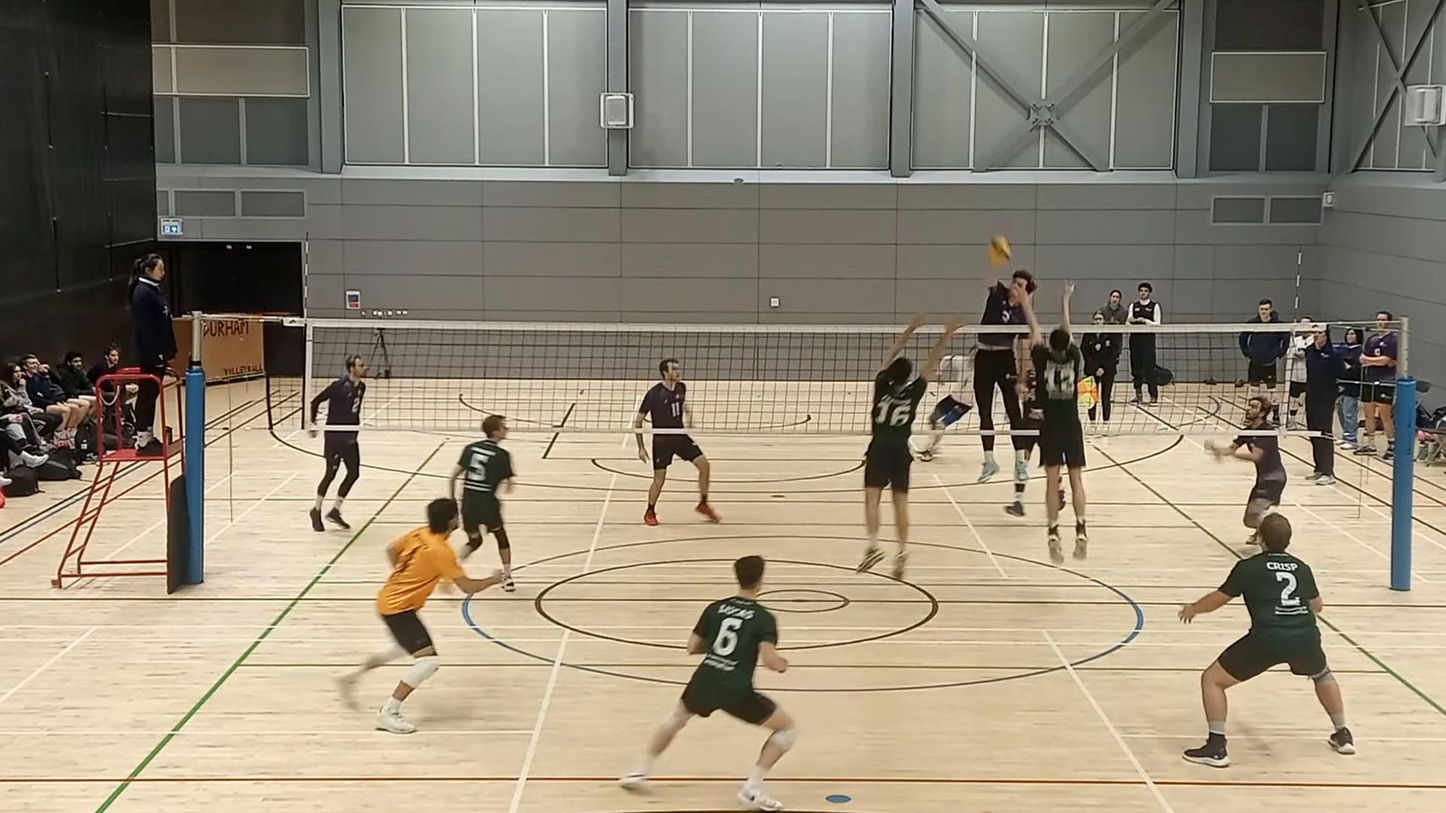Attack: (977, 227, 1037, 492)
Block: (863, 309, 979, 575), (1003, 296, 1081, 515)
Player: (621, 556, 797, 810), (1179, 514, 1355, 767), (339, 498, 502, 733), (634, 358, 719, 525), (1206, 395, 1286, 544), (449, 415, 514, 592), (310, 355, 367, 531), (919, 356, 972, 461), (1020, 370, 1041, 432)
ball: (987, 230, 1014, 271)
